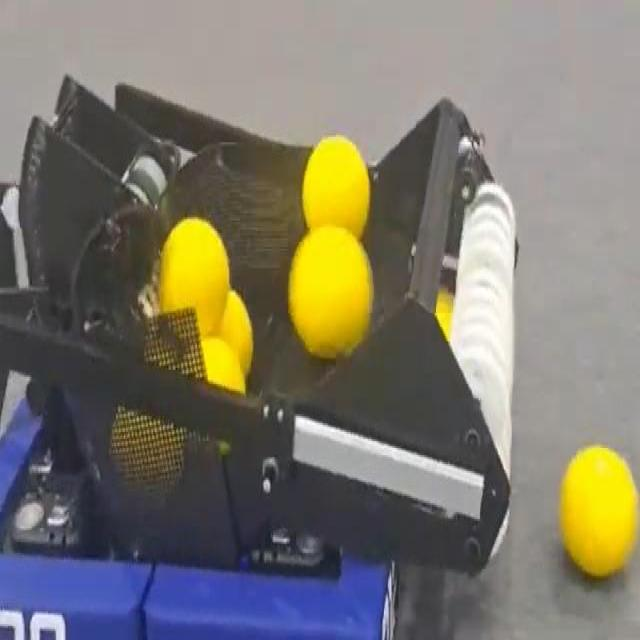Fuel: (289, 225, 373, 358), (288, 226, 373, 357), (559, 446, 637, 576), (159, 217, 230, 338), (159, 217, 229, 336), (302, 135, 371, 237), (302, 135, 370, 237), (218, 290, 254, 378), (218, 290, 253, 375), (200, 336, 245, 402), (201, 338, 245, 393), (435, 290, 453, 340)
